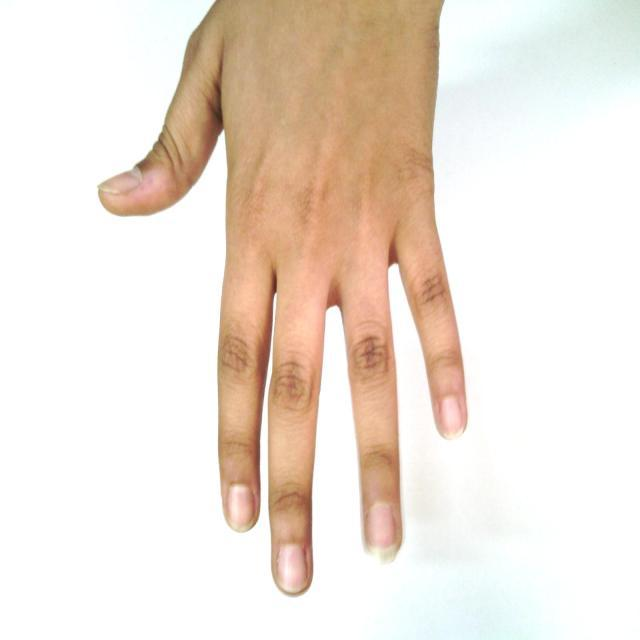Fingernail: (367, 505, 397, 562), (277, 545, 307, 593), (229, 485, 254, 531), (99, 170, 140, 195), (440, 397, 463, 439)
